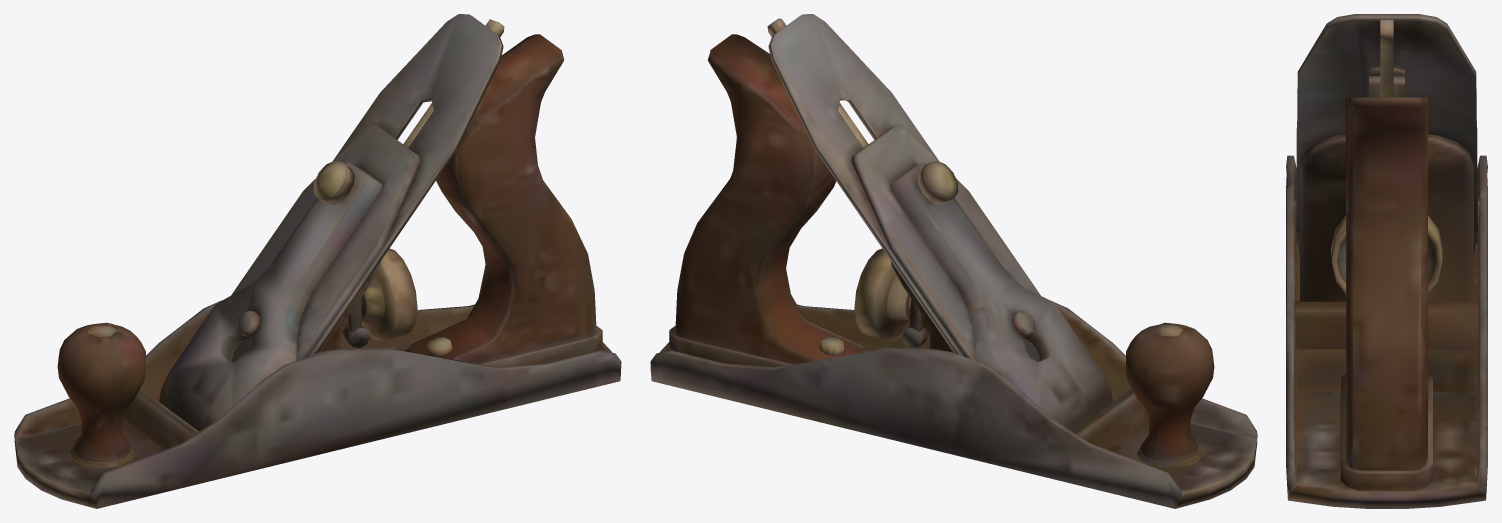
File: design-hand-plane-no4.glb
The picture shows the model from 3 angles, left to right: view 1: azimuth 30°, elevation 25°; view 2: azimuth 150°, elevation 25°; view 3: azimuth 270°, elevation 25°; orthographic projection. The views are drawn at different scales.
Parts seen in each view (by area): view 1: hand_plane_no4; view 2: hand_plane_no4; view 3: hand_plane_no4.
Boxes of the visible parts, <box> form: hand_plane_no4: <box>14,14,621,508</box>; hand_plane_no4: <box>650,14,1257,508</box>; hand_plane_no4: <box>1286,14,1487,508</box>.
Size of the model in its own units: 0.3298 by 0.1978 by 0.0843.
Materials: 1 (1 with a texture image).
